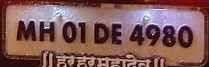character: (14, 19, 37, 41), (38, 19, 55, 42), (92, 22, 109, 45), (176, 25, 193, 48), (61, 20, 77, 44), (144, 23, 160, 47), (161, 23, 176, 47), (128, 23, 144, 45), (111, 22, 121, 44), (77, 20, 85, 44)
